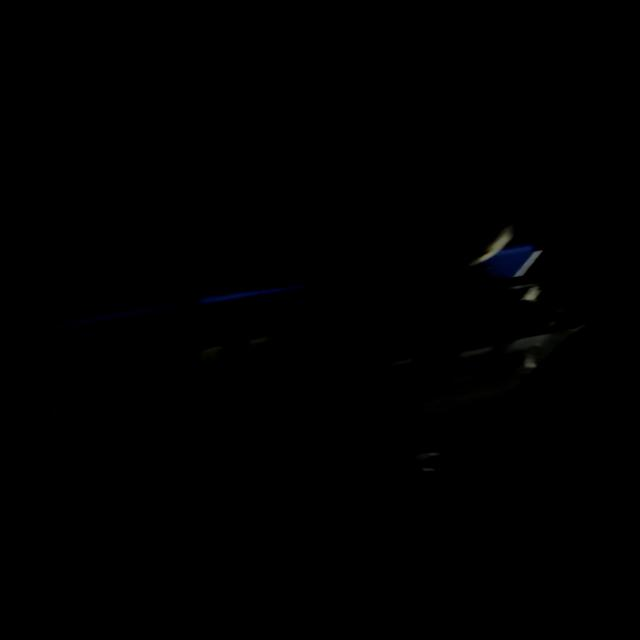mbot-detection: (0, 106, 640, 583)
